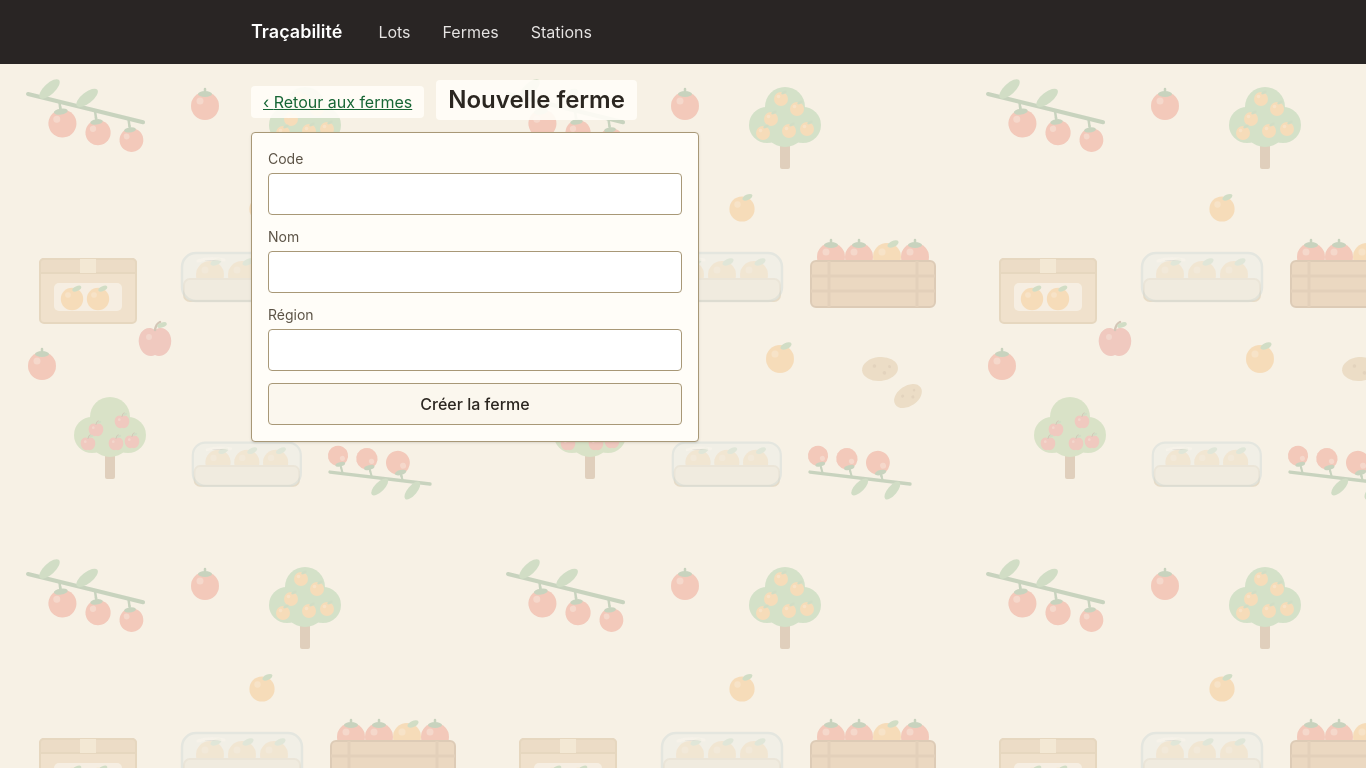
it: NewFarmPage › says in French that the code is taken, and keeps what was typed
Type "ZT-FARM" into the field labelled "Code" at (475, 194), box [268,173,682,215]
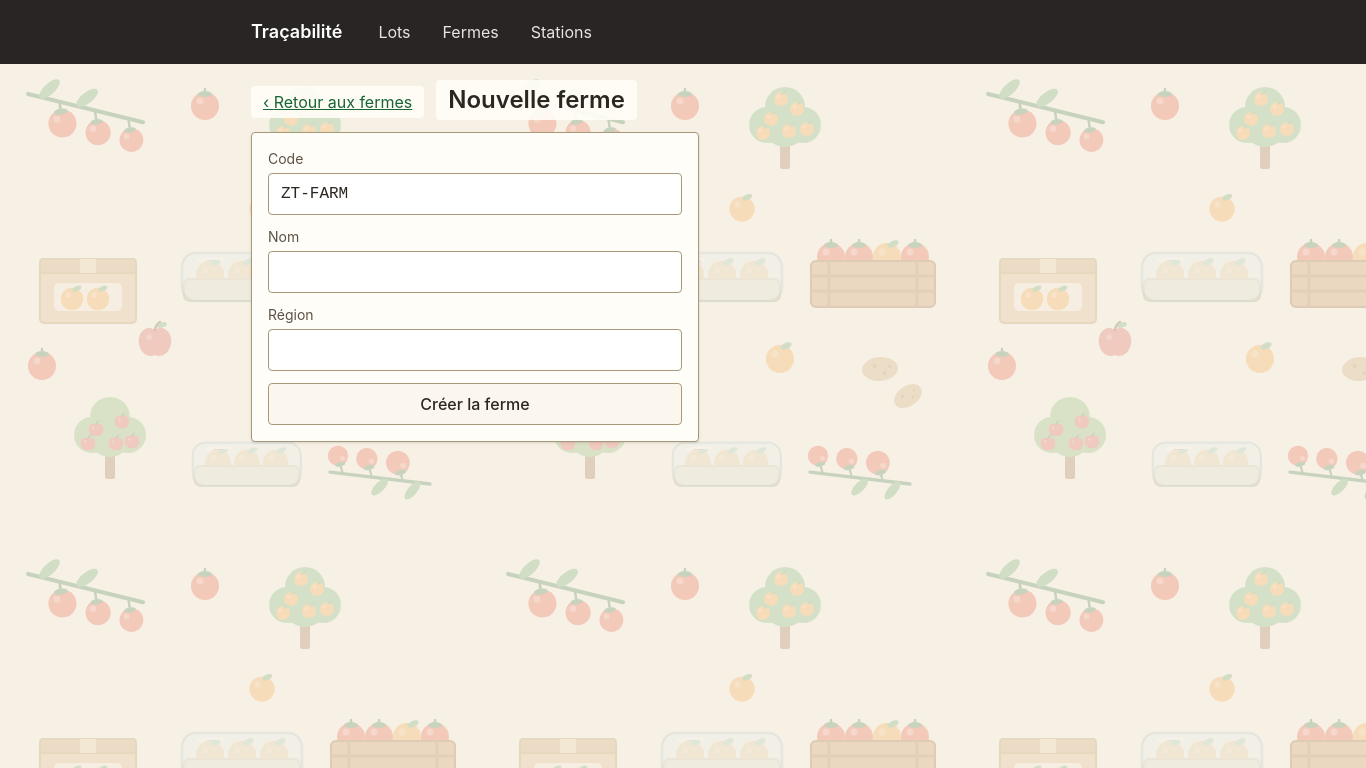
Type "Test farm" into the field labelled "Nom" at (475, 272), box [268,251,682,293]
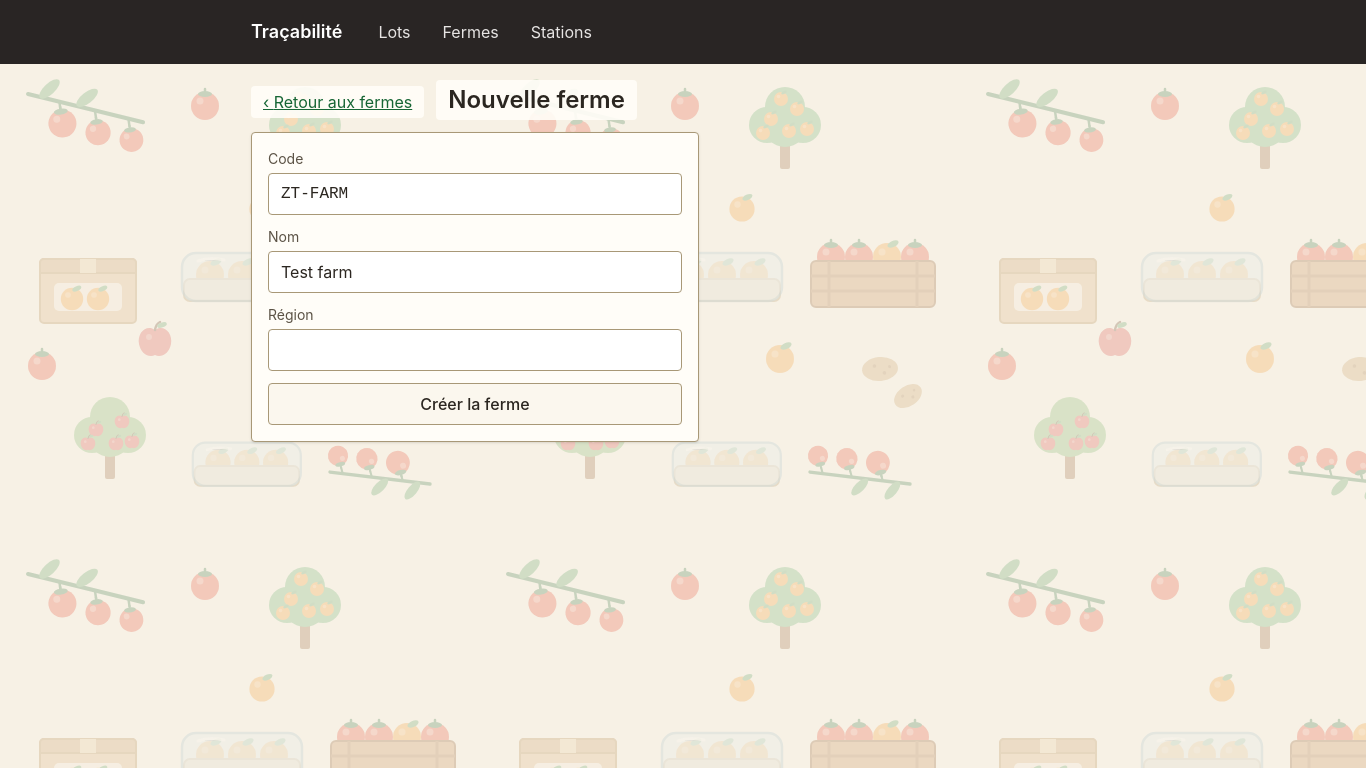
Type "Region A" into the field labelled "Région" at (475, 350), box [268,329,682,371]
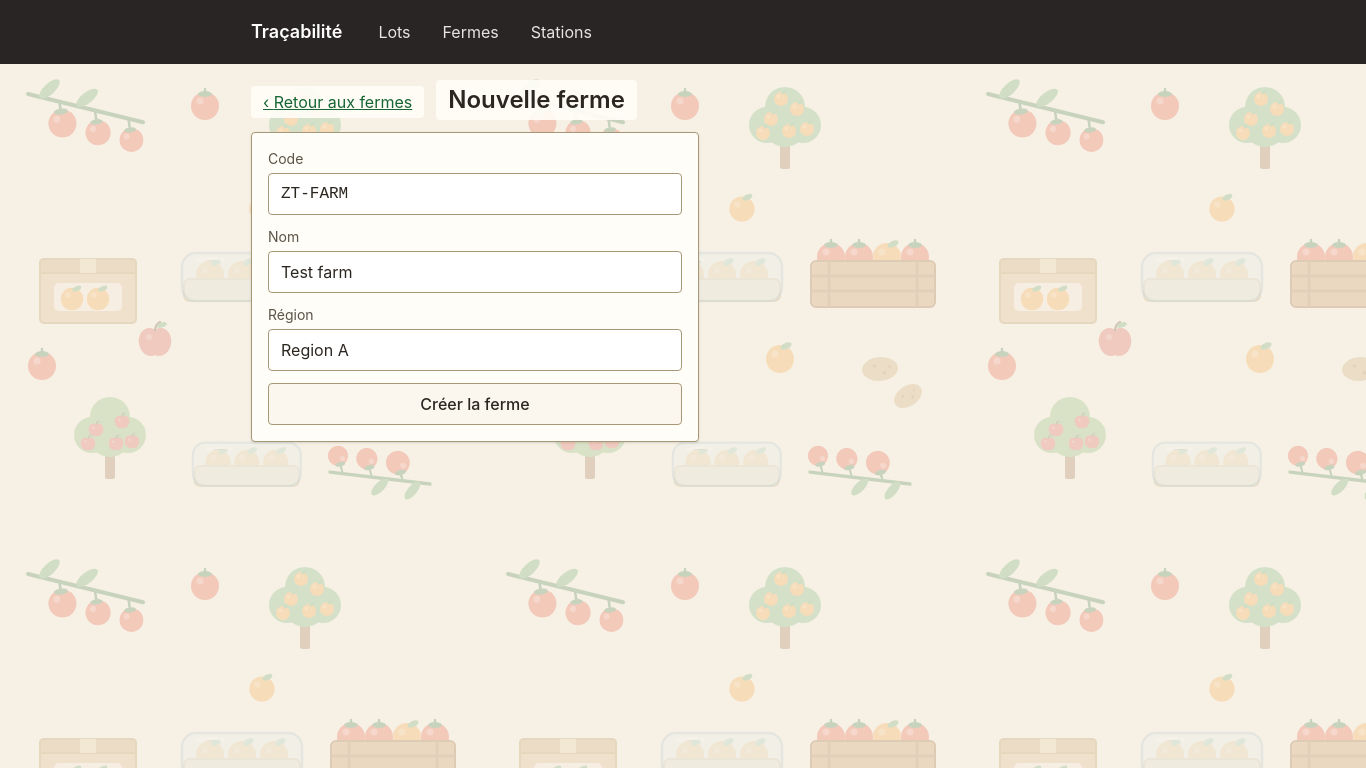
Click the button "Créer la ferme" at (475, 404), box [268,383,682,425]
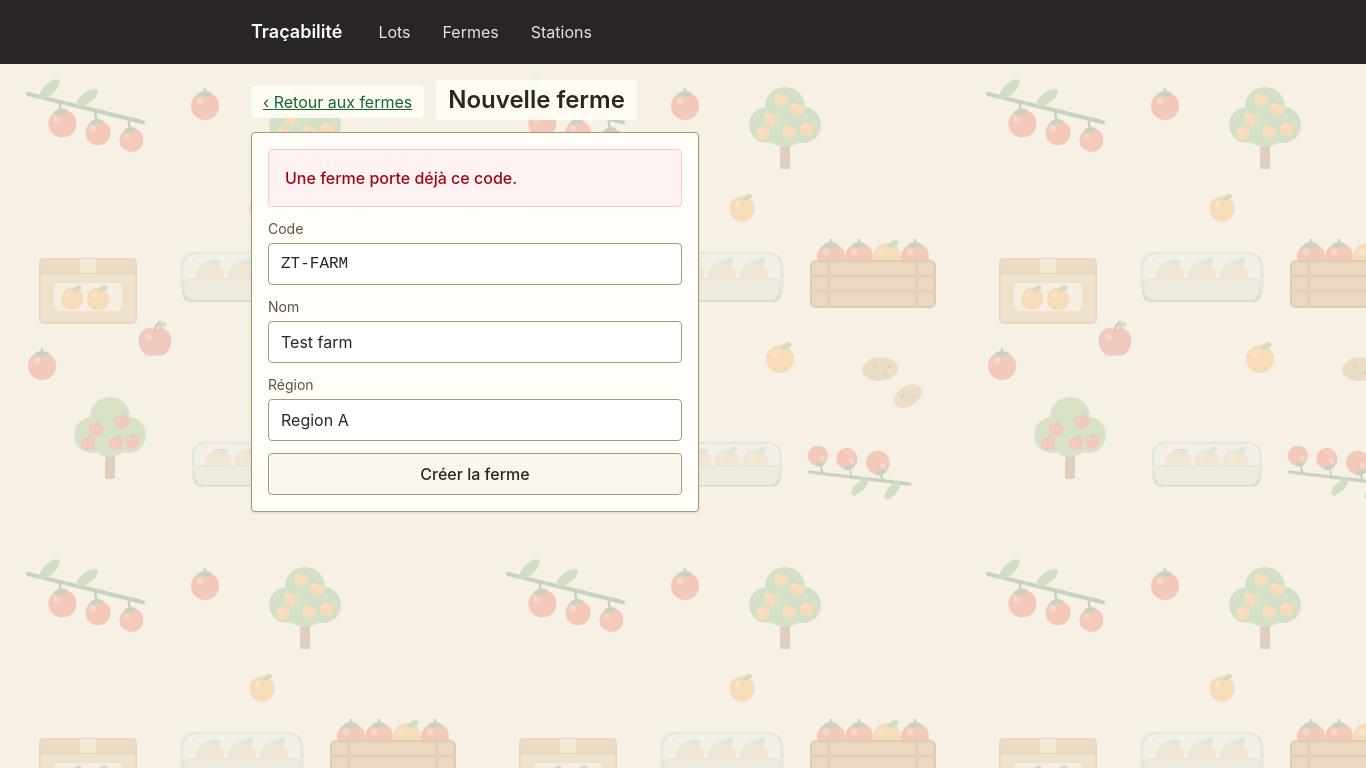
Result: the message reads "Une ferme porte déjà ce code." at [285,168,517,188]
